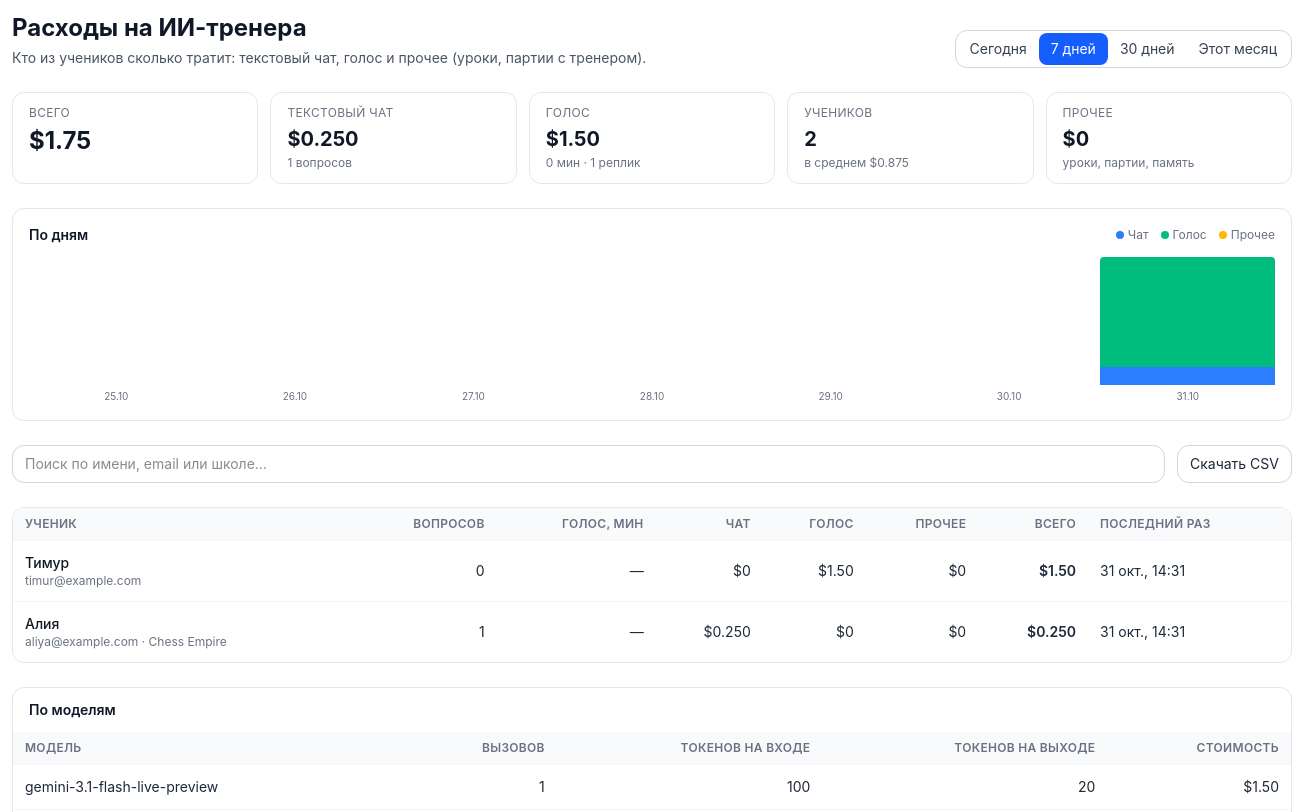
Scenario: /super-admin/usage › switches the period and filters by search
Expected: the text "Алия" is shown, [25,615,59,632]
Click the tab "Сегодня". click: [998, 49]
box: [958,33,1039,65]
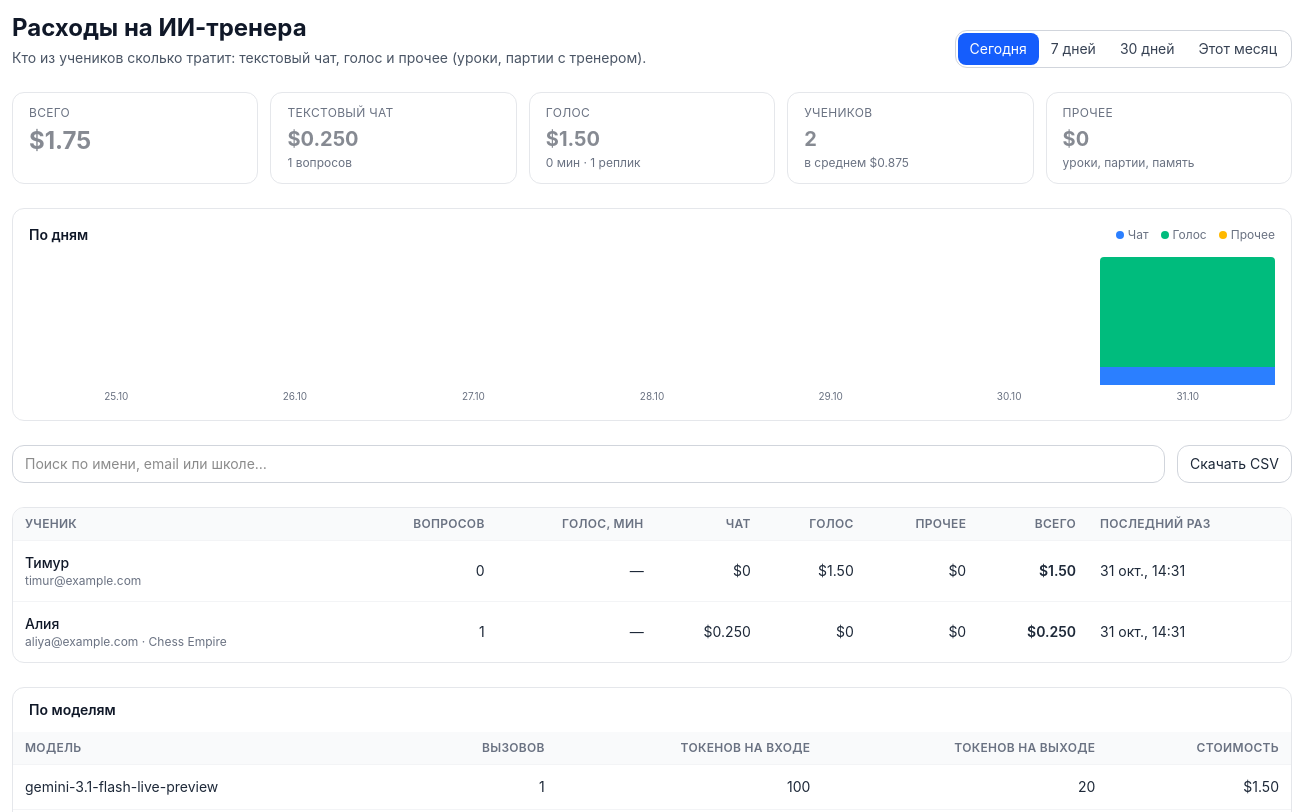
Type "empire" into the search field with placeholder "Поиск по имени, email или школе…". click: [588, 464]
box: [12,445,1165,483]
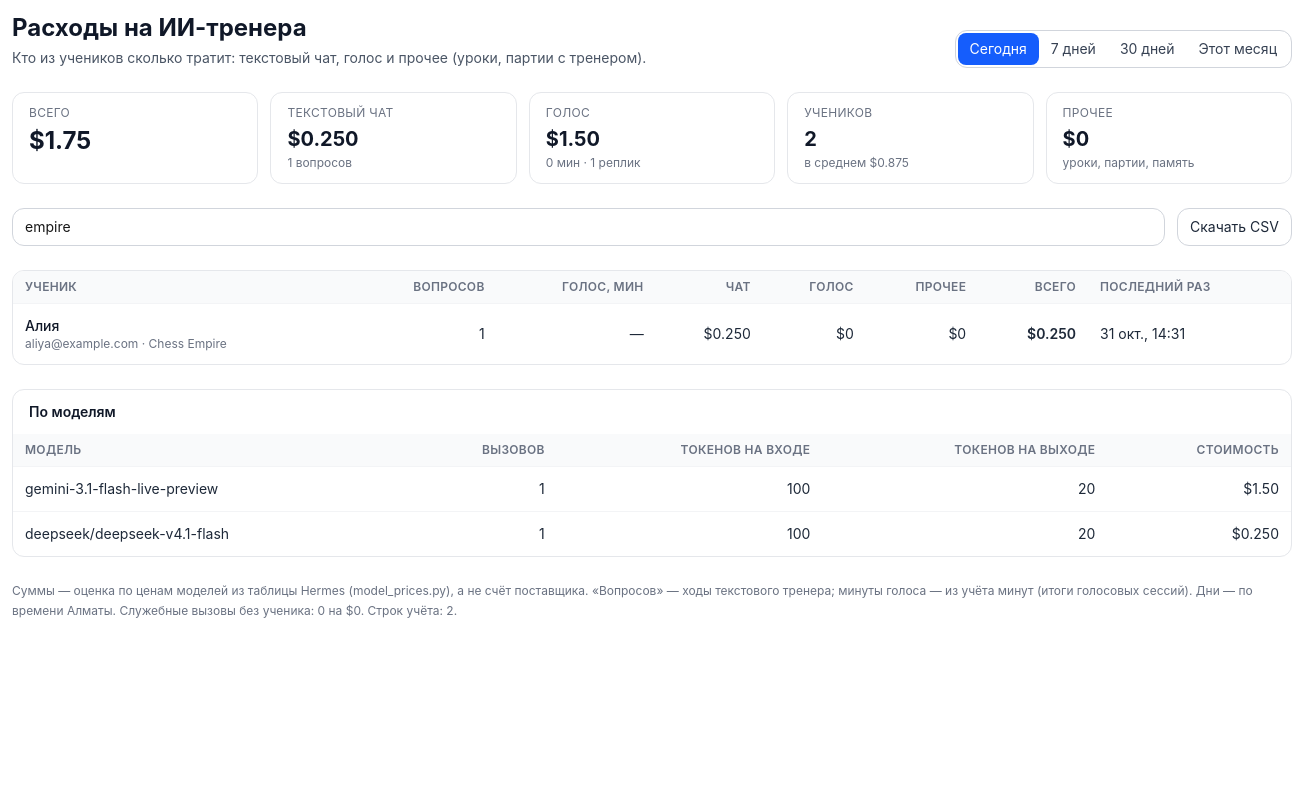
Expected: the text "Алия" is shown, [25,317,59,334]
Result: the text "Тимур" is gone
